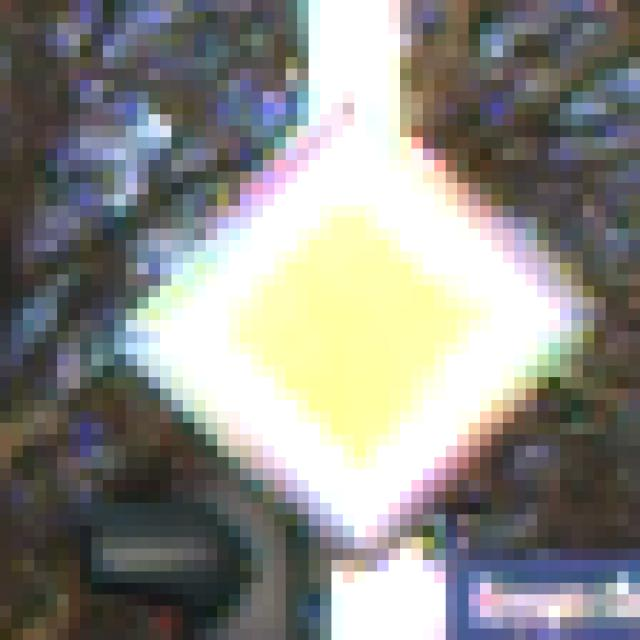Main Road: (69, 69, 584, 584)
